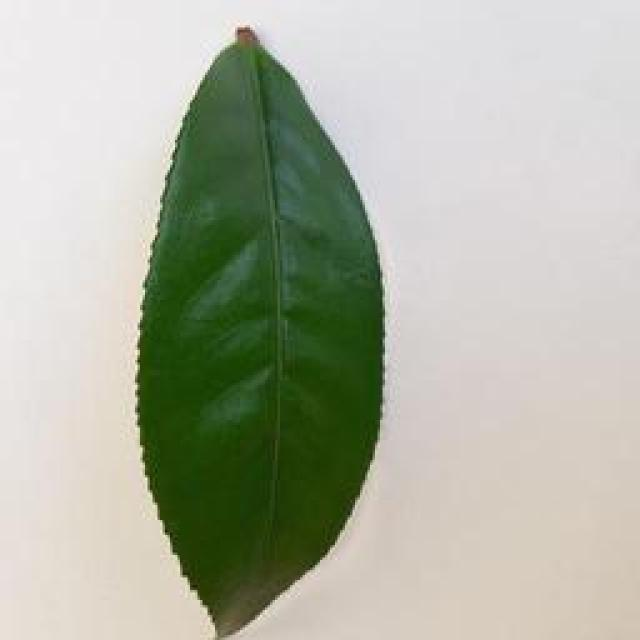Healthy: (130, 10, 380, 640)
